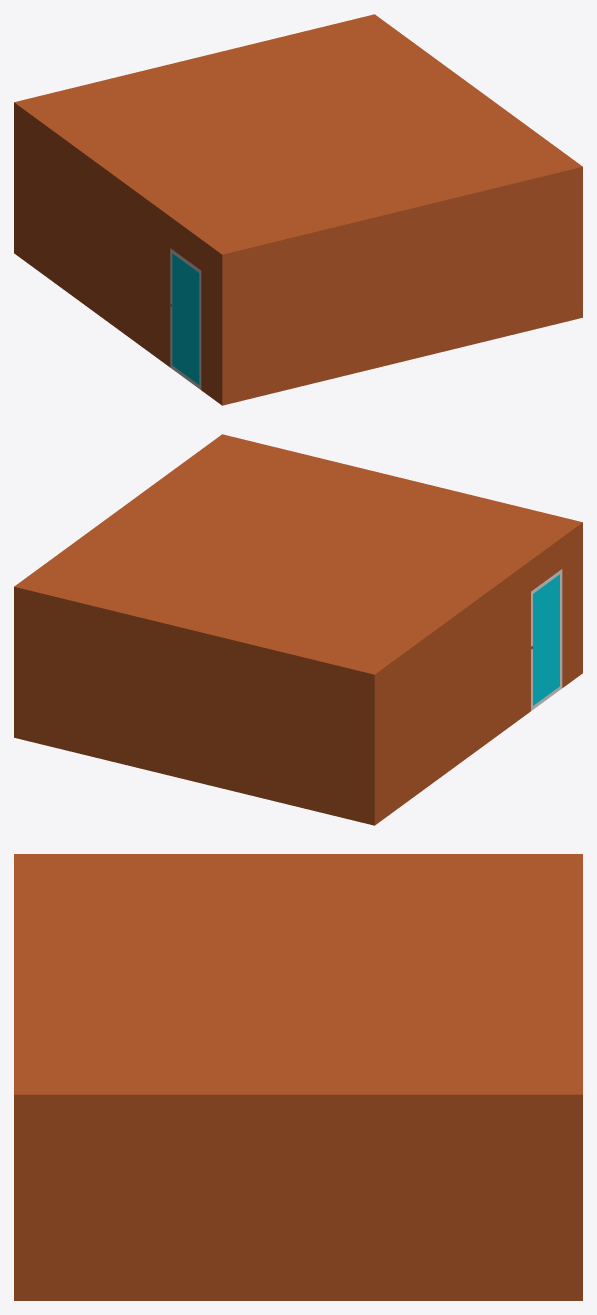
Rendered from travel_agency.fbx.
3 views of the same model, one above another, from view 1: azimuth 30°, elevation 25°; view 2: azimuth 150°, elevation 25°; view 3: azimuth 270°, elevation 25° (orthographic). The views are drawn at different scales.
Visible parts, largest first — view 1: agency; view 2: agency; view 3: agency.
Boxes of the visible parts, x1,y1,x2,y2 form: agency: [14, 14, 582, 405]; agency: [14, 434, 582, 825]; agency: [14, 854, 582, 1300].
Bounding box in the file's own units: 1000 × 400 × 1000.
